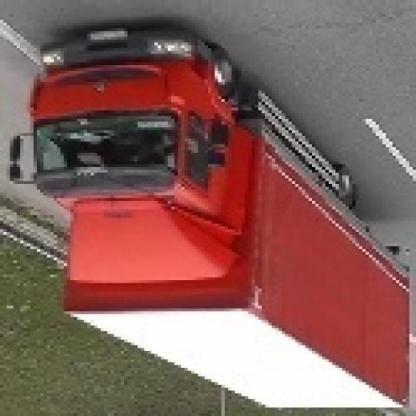truck: (14, 29, 416, 414)
